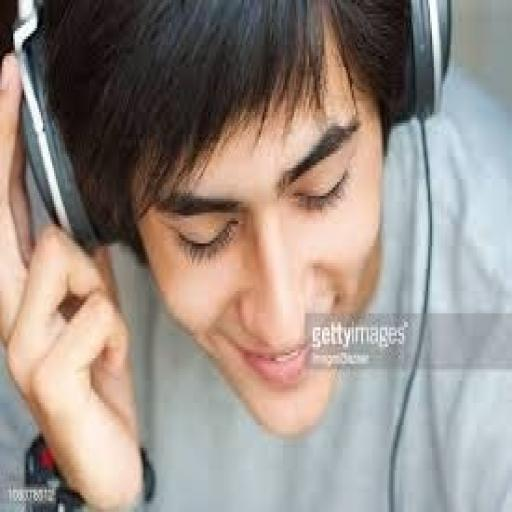listening_to_music: (0, 0, 510, 509)
